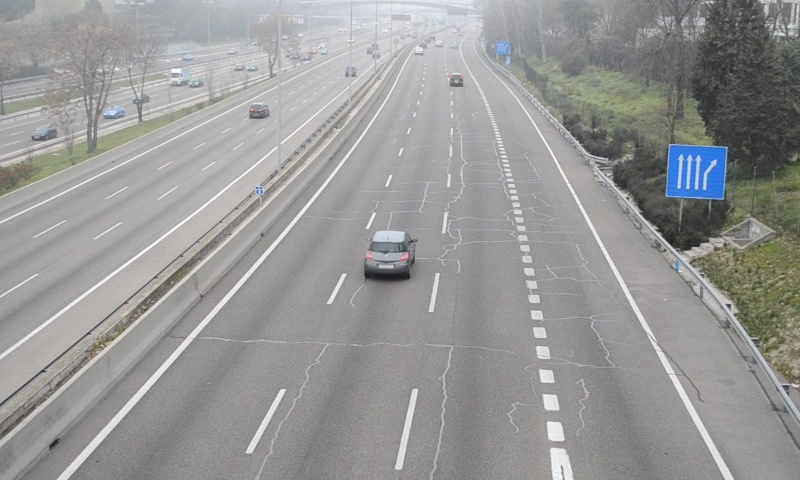car: (363, 231, 414, 278), (448, 72, 464, 87)
